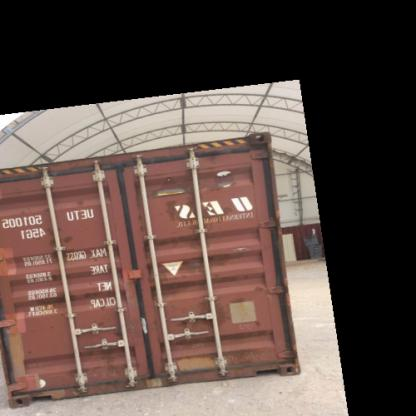Damage: (177, 174, 235, 198), (43, 222, 76, 260), (184, 254, 248, 270), (180, 226, 214, 247)
